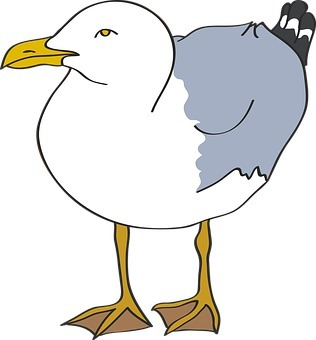bird: (1, 4, 316, 335)
